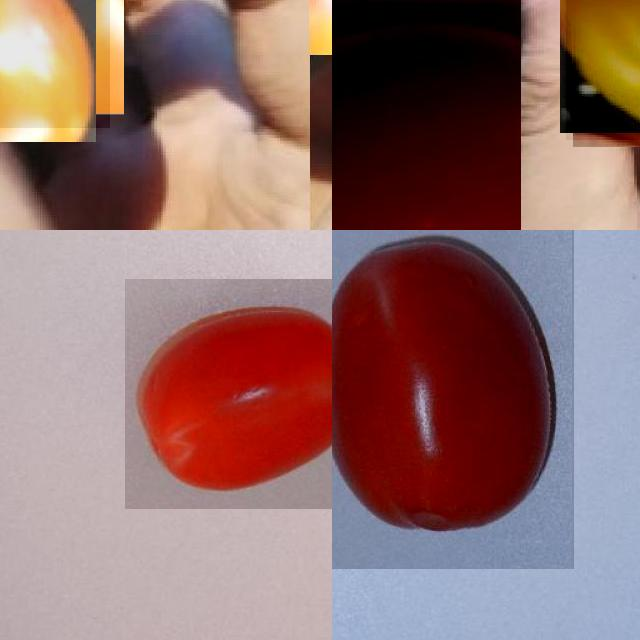Fresh Tomato: (332, 230, 574, 569), (125, 279, 332, 508), (332, 0, 521, 230), (0, 0, 110, 128)
